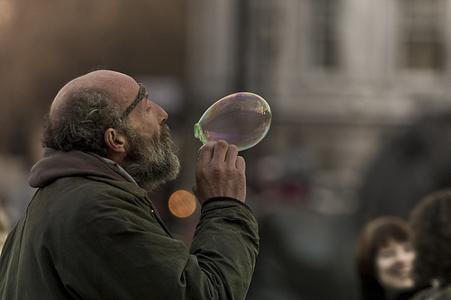person: (5, 66, 260, 300)
